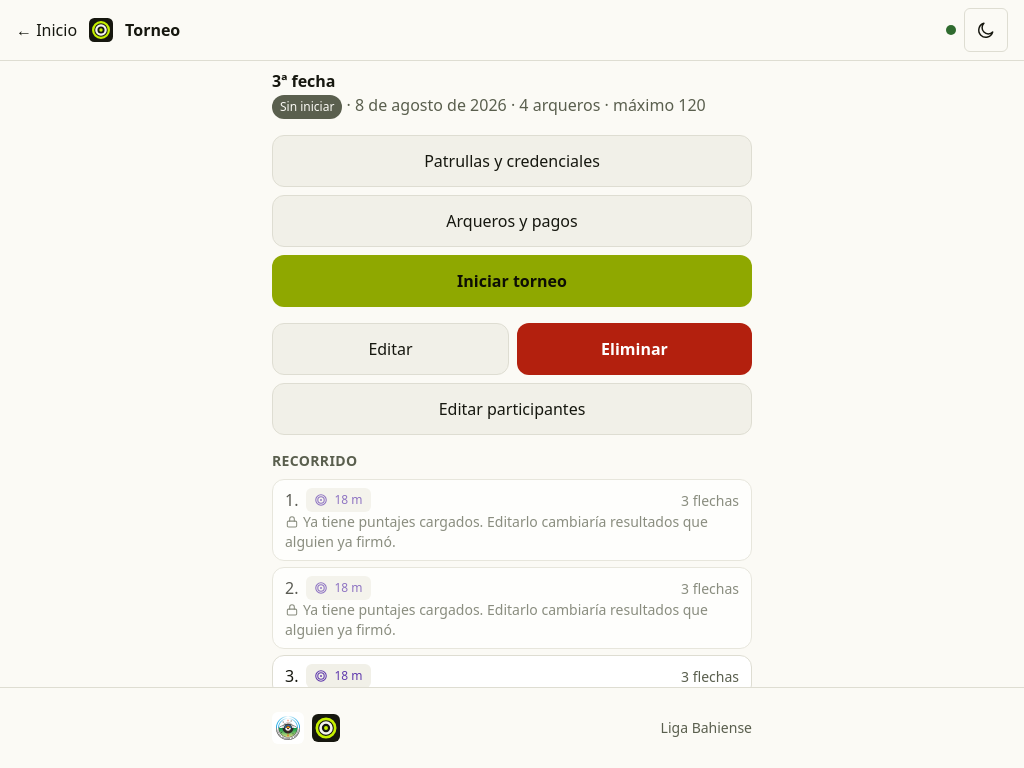
Scenario: editar y eliminar el torneo › editar abre el formulario con lo que ya tiene cargado
Step 1. Click the button "Editar" → x=390, y=349, box [272,323,509,375]
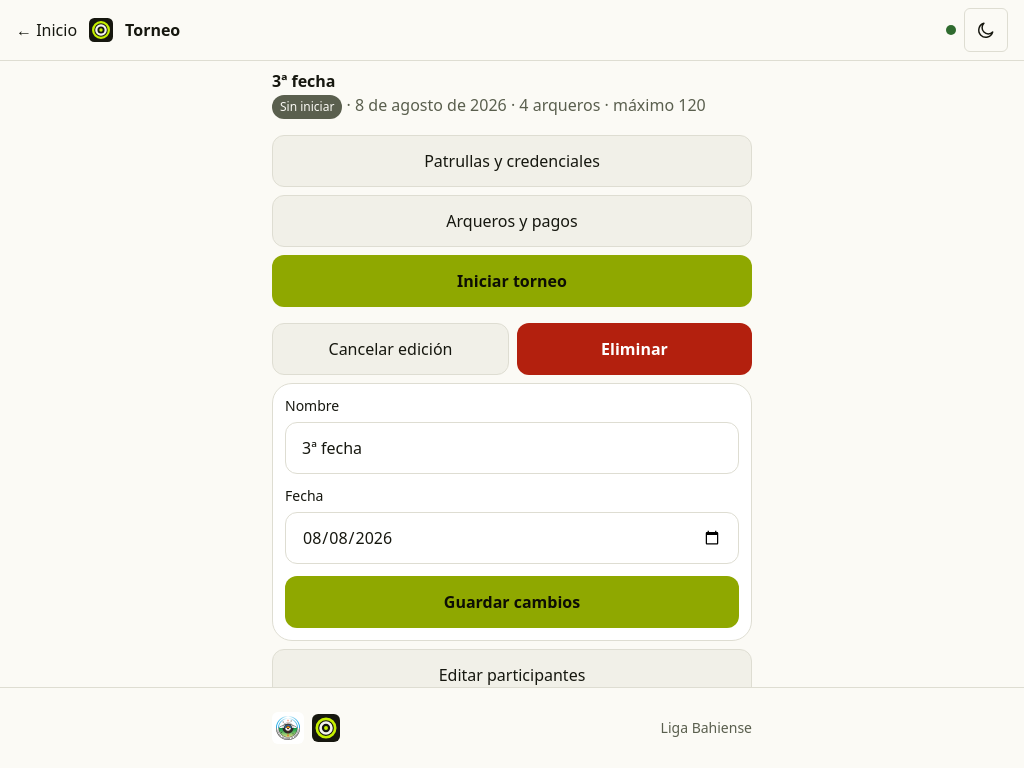
Check: the form with test id "editar-torneo" is shown, box [272,383,752,641]
Check: the field labelled "Nombre" holds "3ª fecha", box [285,422,739,474]
